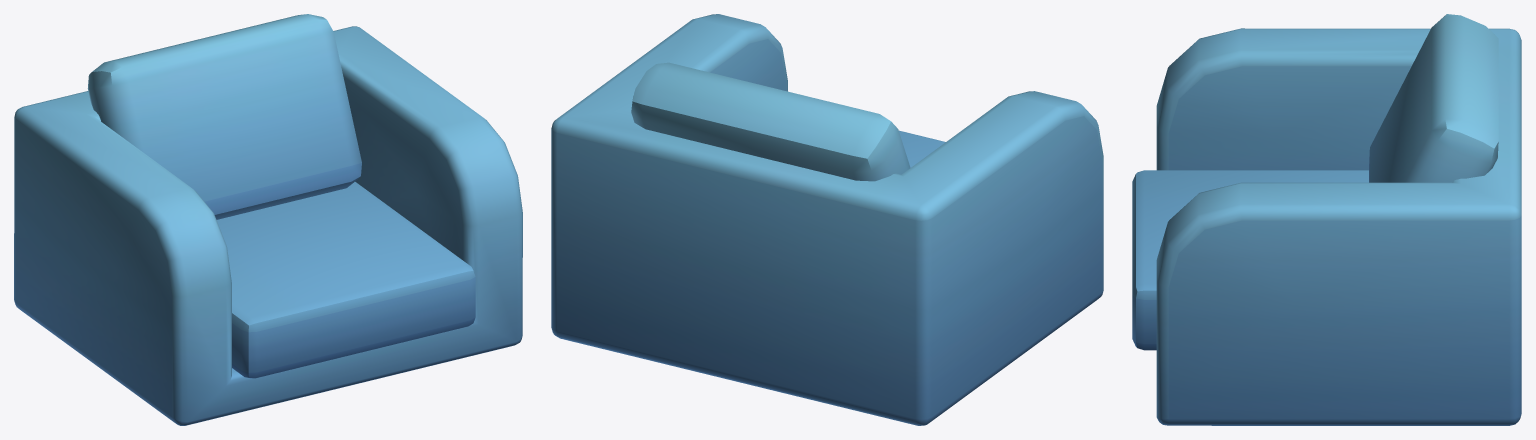
Rendered from fatolj.glb.
3 renders of one model, left to right at view 1: azimuth 30°, elevation 25°; view 2: azimuth 150°, elevation 25°; view 3: azimuth 270°, elevation 25°, orthographic. The views are drawn at different scales.
Visible parts, largest first — view 1: armchair; view 2: armchair; view 3: armchair.
Part boxes in pixels (x1,y1,x2,y2): armchair: (14,14,522,425); armchair: (551,14,1103,425); armchair: (1132,14,1521,425).
Size of the model in its own units: 1.8 by 1.22 by 1.6.
1 material, 1 textured.
